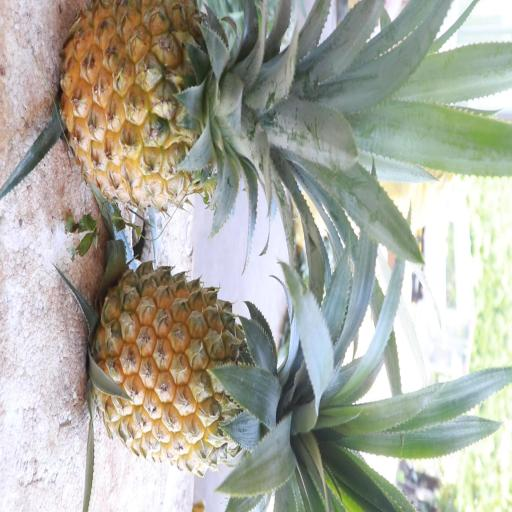Pineapple - v8 v1: (85, 258, 335, 480), (55, 0, 304, 222)
